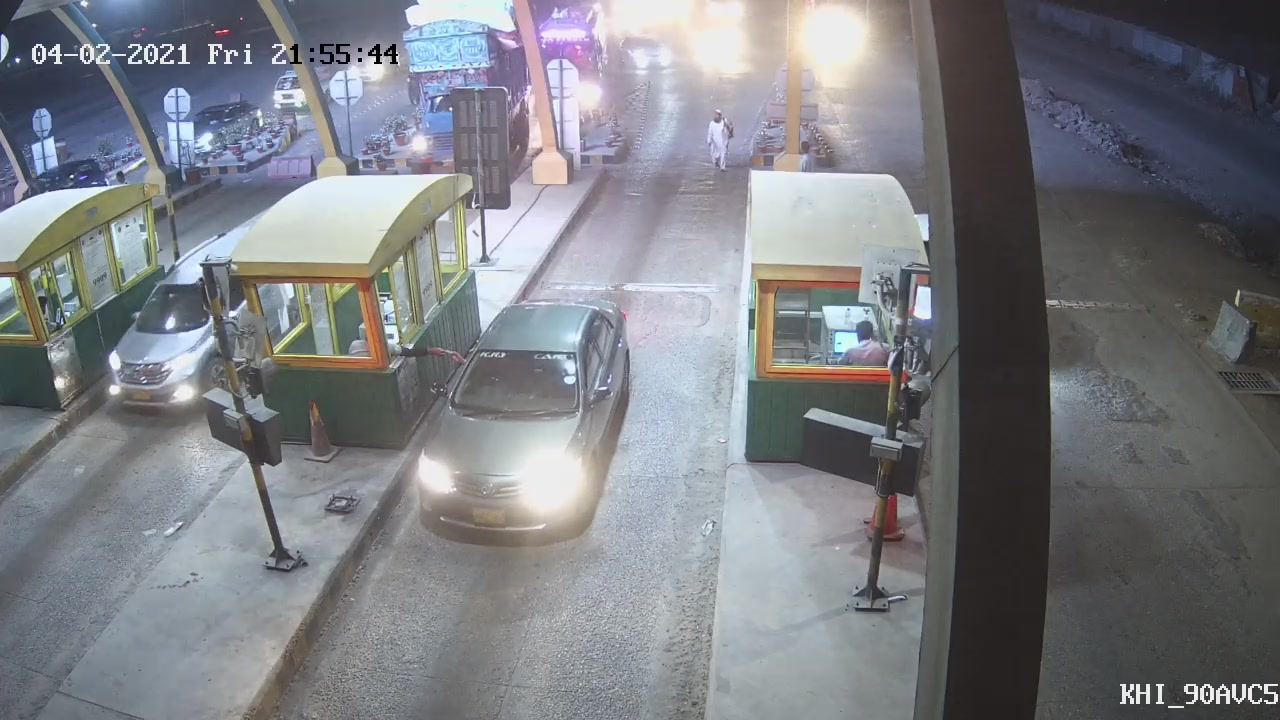F1: (411, 290, 636, 544)
